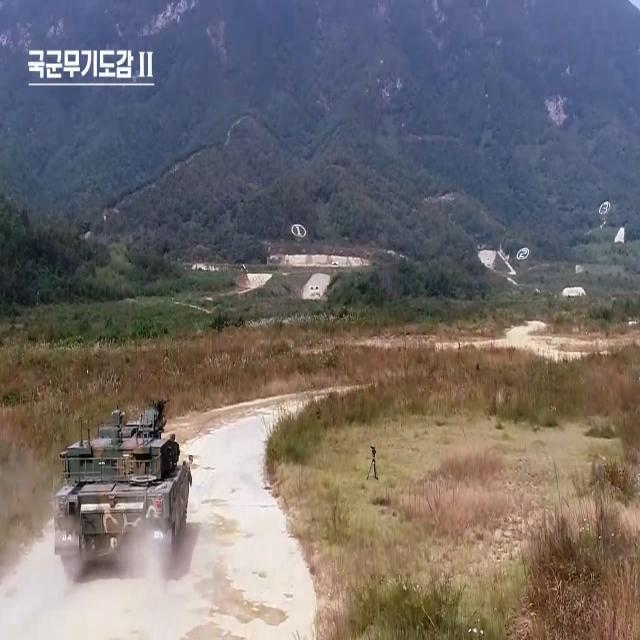korea tank: (47, 391, 198, 587)
